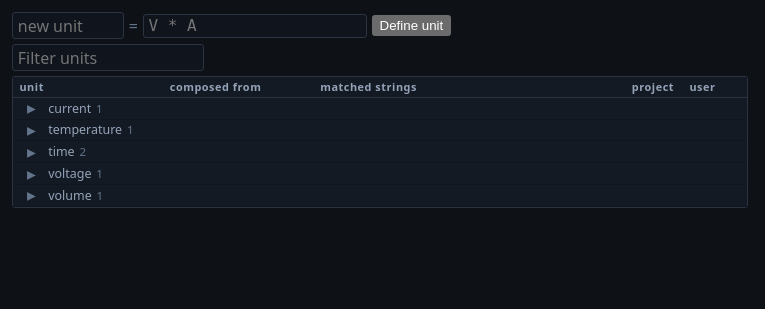
composing a unit › says what is wrong with a composition where it was typed, and persists nothing
Click the button "▸" next to "voltage".
click(31, 174)  # box [19,165,43,182]
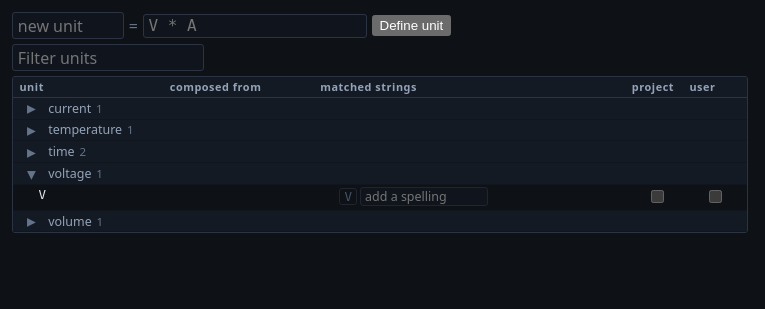
Now the list item "V" is shown, box [39,187,46,202]
Type "VA" into the field named "New unit name".
click(68, 26); type("VA")  # box [12,12,124,39]
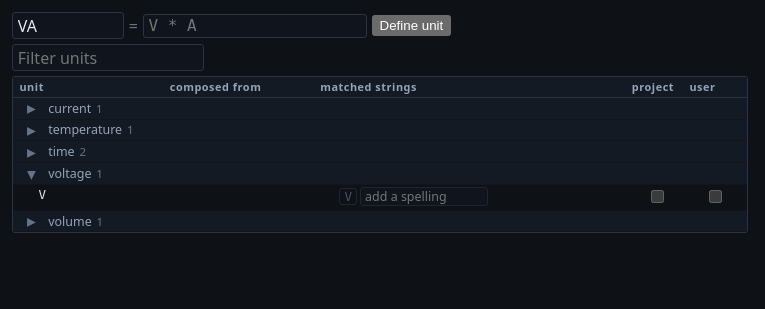
Type "V * bananas" into the field named "Composed from".
click(255, 26); type("V * bananas")  # box [143,14,367,38]
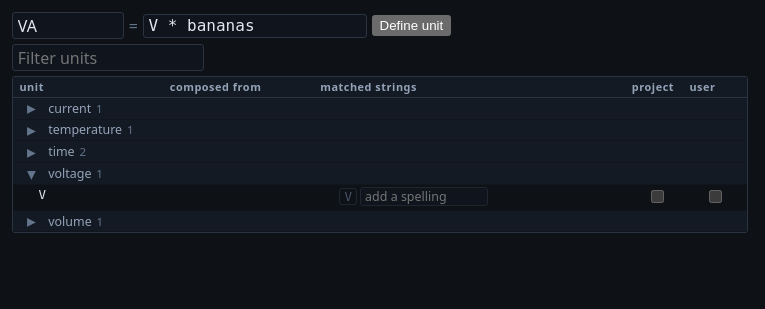
Click the button "Define unit".
click(411, 26)  # box [372,15,451,36]
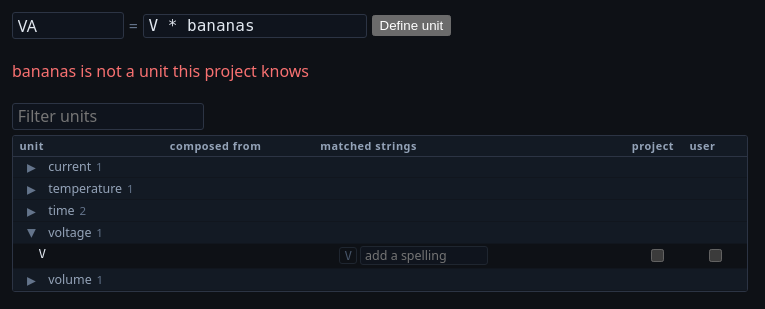
Now the message shows "bananas", box [12,60,309,82]
